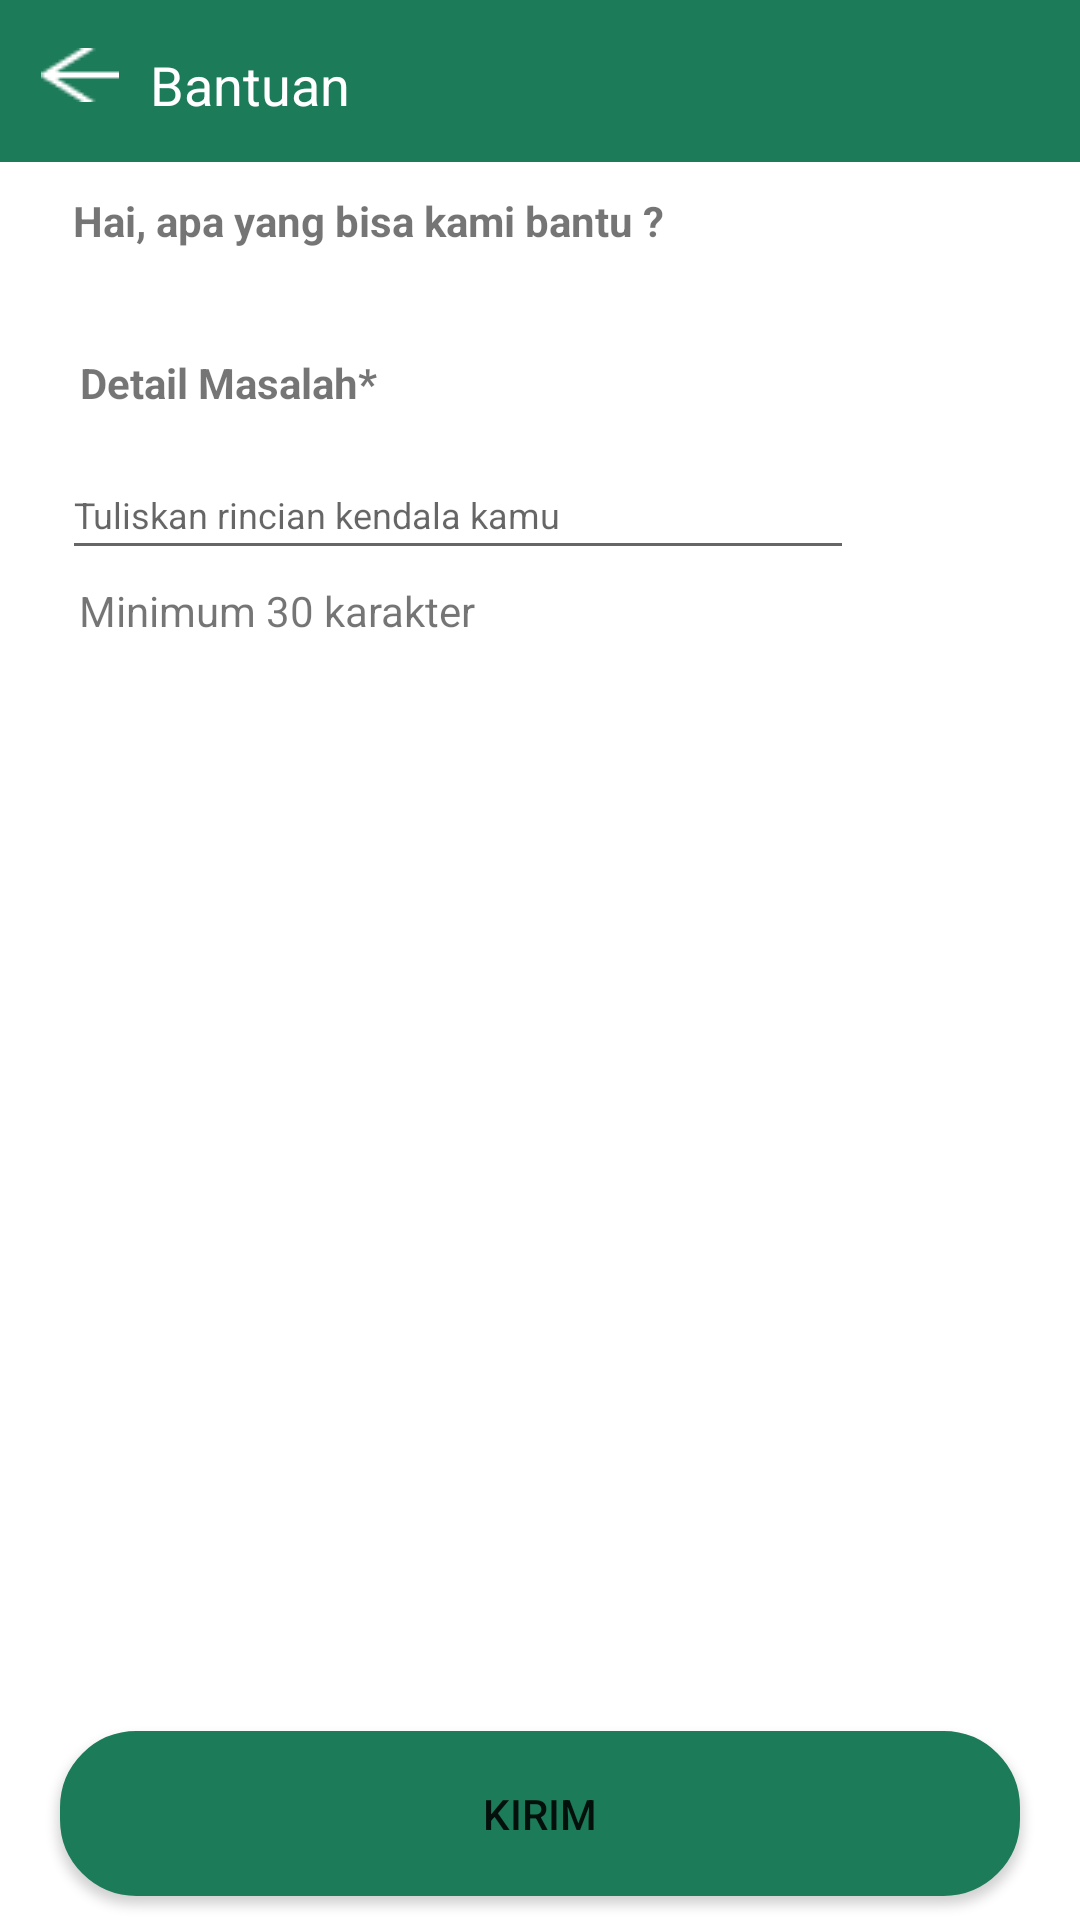

Icon click points for this 1080 x 1920 phone screenshot, format [x,y]:
panah: [80,75]
